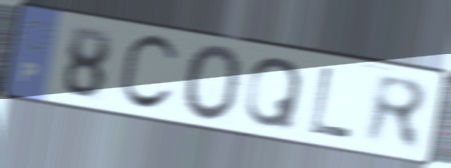8: (60, 24, 115, 102)
C: (115, 32, 182, 114)
L: (306, 63, 356, 142)
O: (180, 43, 246, 125)
Q: (242, 55, 307, 133)
R: (363, 70, 431, 155)
